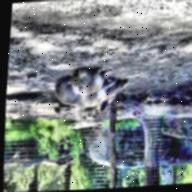boar: (43, 80, 122, 116)
